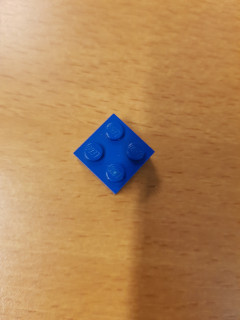2x2 blue: (71, 112, 156, 196)
